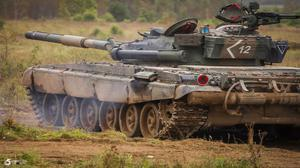t72: (25, 24, 300, 136)
